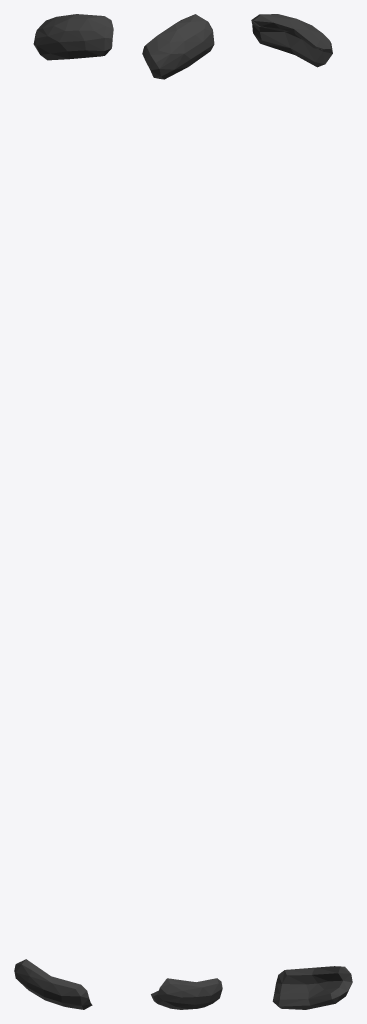
The model's file is Pelvis_tuber_coxae.glb.
3 views of the same model, side by side, from view 1: azimuth 90°, elevation 25°; view 2: azimuth 150°, elevation 25°; view 3: azimuth 270°, elevation 25° (orthographic). The views are drawn at different scales.
Parts seen in each view (by area): view 1: Pelvis_tuber_coxae; view 2: Pelvis_tuber_coxae; view 3: Pelvis_tuber_coxae.
Part boxes in pixels (box(x1,y1,x2,y2)): Pelvis_tuber_coxae: box(14, 14, 113, 1009); Pelvis_tuber_coxae: box(142, 14, 222, 1009); Pelvis_tuber_coxae: box(251, 14, 352, 1009).
Size of the model in its own units: 0.3258 by 4.79 by 0.4393.
1 material, 1 textured.
